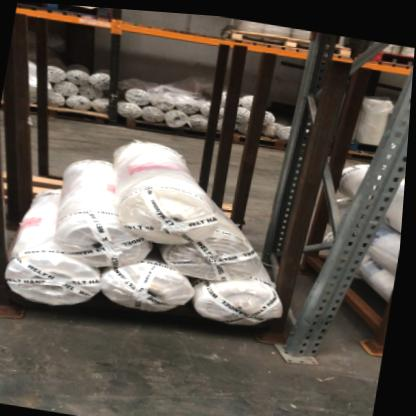vertical_damage: (282, 310, 365, 371)
